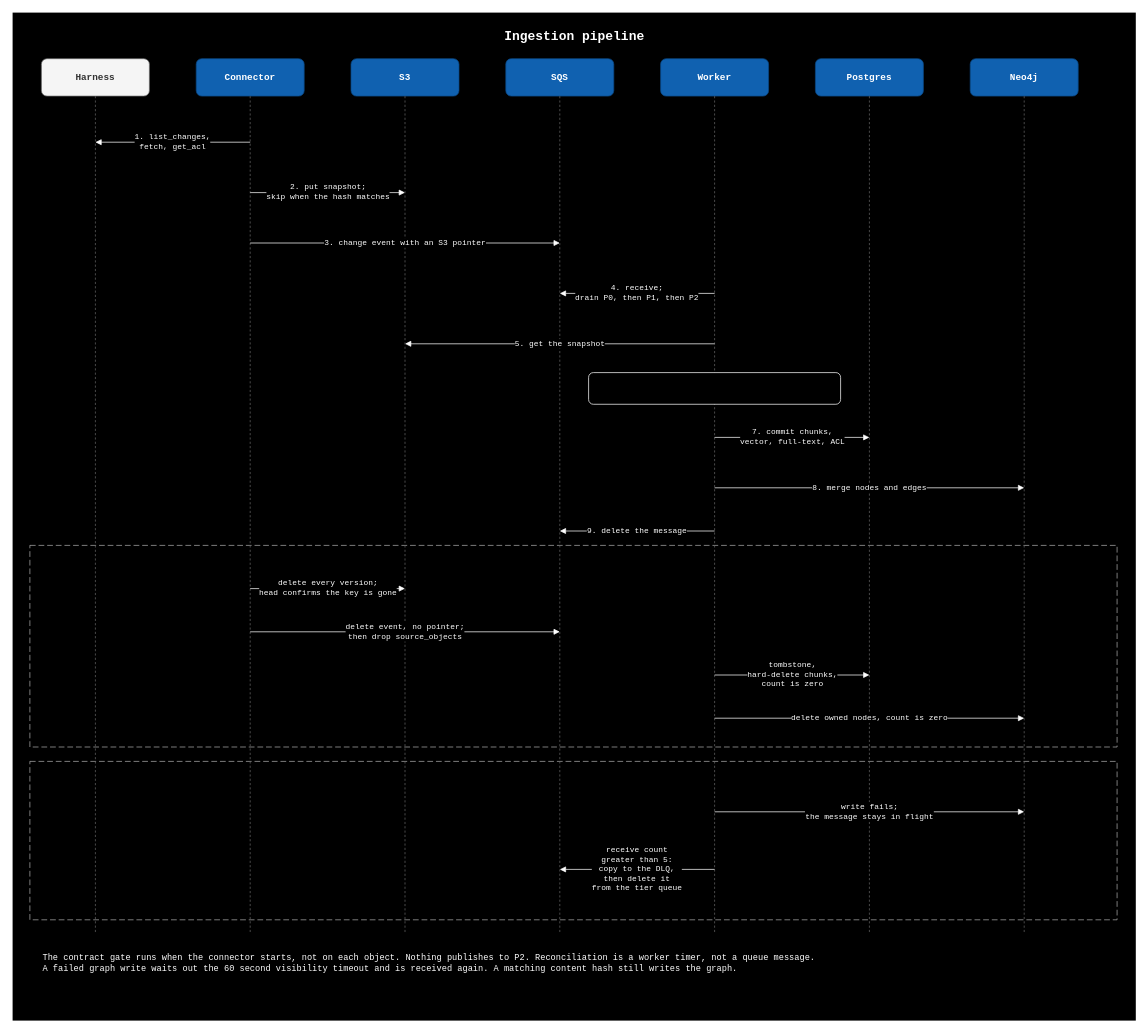
Image size: 1148x1032. Some labels were removed from this diagram. The shapes that lost their labels are listed below. From the top down, each one's box as (x1, y1, x2, y2) in pixels, then its label:
(588, 372, 841, 404): 6. tombstone check, chunk, embed or skip when the hash matches
(29, 545, 1117, 747): delete
(29, 761, 1117, 920): graph write failed
